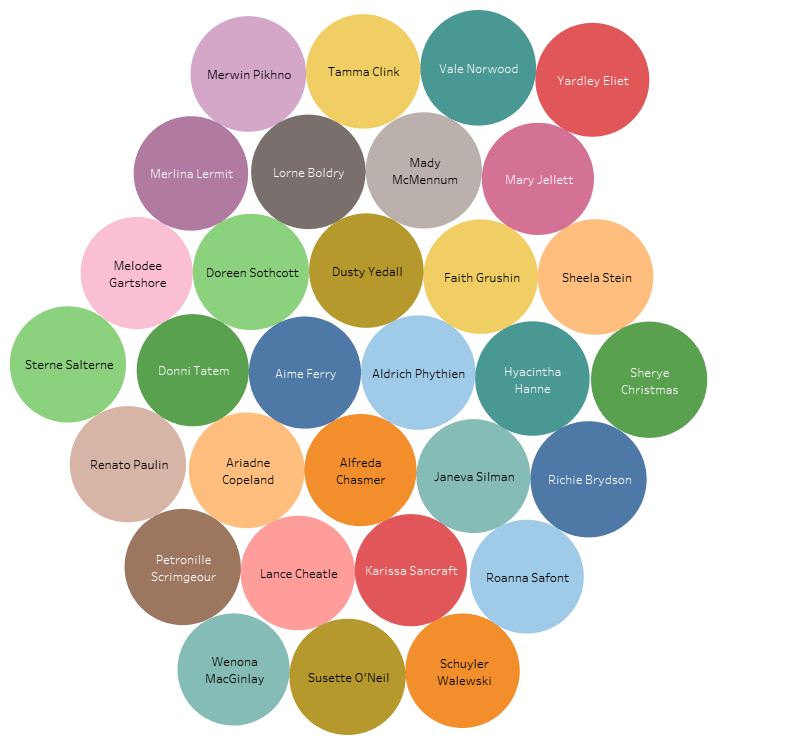

What the dashboard file says about the page in this screenshot:
{"tool":"tableau","page":{"name":"Dashboard 1","canvas":[650,860],"ordinal":0},"visuals":[{"type":"worksheet","title":"Customer Sales","mark":"Automatic","rows":["Sales"],"cols":["Customer Name"],"box":[8,8,634,422]},{"type":"worksheet","title":"Sales Buble Chart","mark":"Circle","box":[8,430,634,422]}]}

Visuals, with their boxes on the page's 650x860 design canvas (x1, y1, x2, y2). These are canvas units, not pixel positions in the 790x743 screenshot, which may show the page scaled, cropped or inside an application window:
"Customer Sales" worksheet: BBox(8, 8, 642, 430)
"Sales Buble Chart" worksheet (Circle marks): BBox(8, 430, 642, 852)
